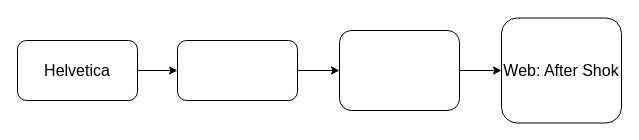
Some shapes in this 639 by 140 pixel diagram are drawn without their labels. Here are the shapes that lost their labels. From the top down, the centre of each, then its label:
the point at 237,70: Charter
the point at 399,70: Google: Satisfy
